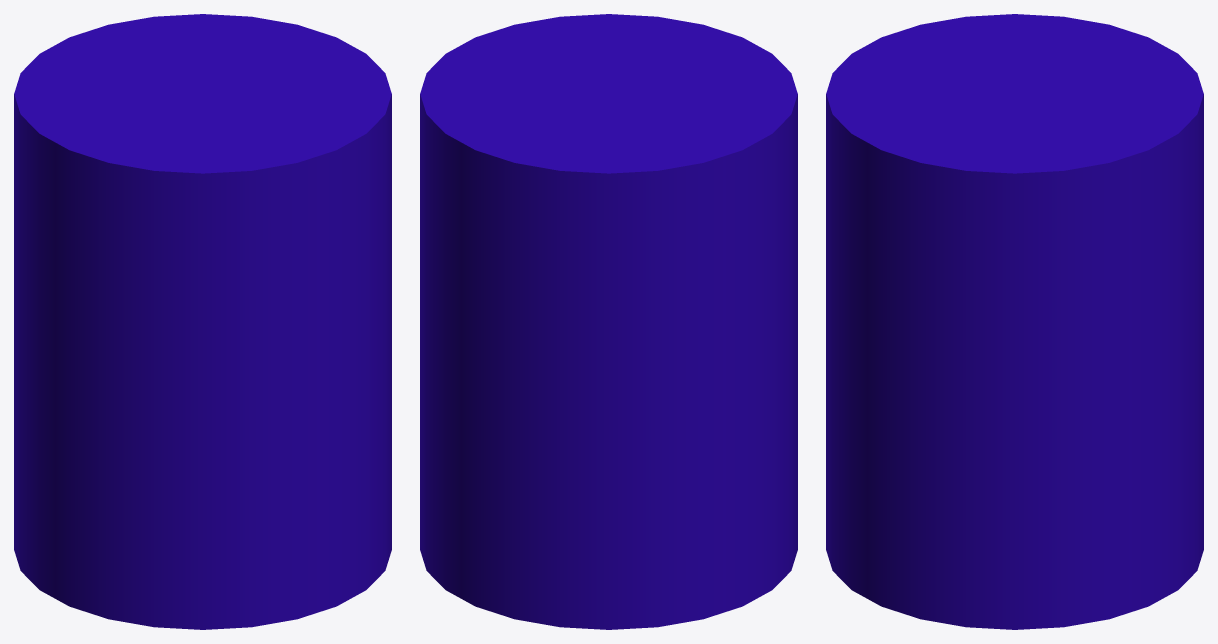
3 renders of one model, left to right at view 1: azimuth 30°, elevation 25°; view 2: azimuth 150°, elevation 25°; view 3: azimuth 270°, elevation 25°, orthographic.
Parts seen in each view (by area): view 1: Object_2; view 2: Object_2; view 3: Object_2.
Boxes of the visible parts, x1=… form: Object_2: x1=14, y1=14, x2=391, y2=629; Object_2: x1=420, y1=14, x2=797, y2=629; Object_2: x1=826, y1=14, x2=1203, y2=629.
Bounding box in the file's own units: 0.75 × 1 × 0.75.
